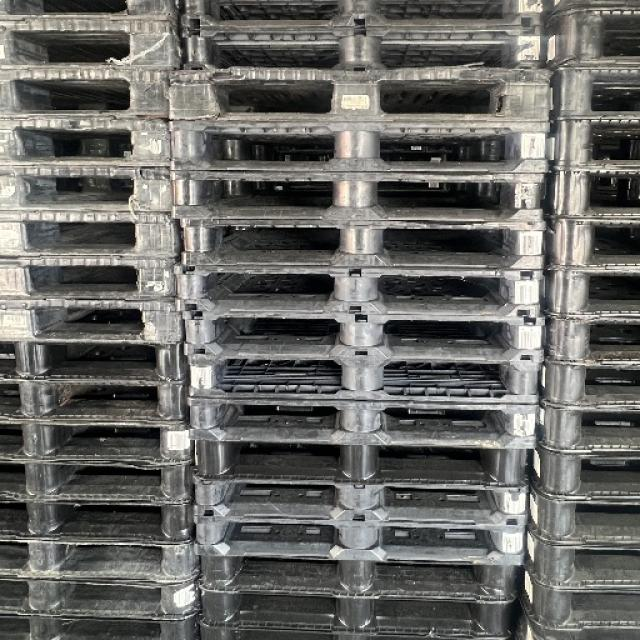igps: (183, 426, 540, 496), (162, 66, 560, 128), (190, 537, 528, 610), (182, 343, 550, 409), (178, 305, 552, 369), (165, 165, 550, 227), (182, 389, 544, 454), (176, 213, 548, 276), (186, 467, 534, 532), (170, 263, 546, 323), (190, 573, 521, 640), (188, 509, 532, 571), (164, 123, 553, 174), (177, 24, 547, 72), (178, 0, 549, 35), (0, 16, 189, 78), (0, 159, 181, 220), (0, 64, 174, 126), (0, 206, 186, 262), (0, 572, 204, 622), (0, 115, 178, 172), (0, 252, 181, 308), (0, 494, 202, 544), (0, 293, 190, 345), (0, 379, 193, 430), (0, 536, 207, 583), (0, 418, 199, 466), (0, 337, 192, 383), (516, 562, 640, 632), (520, 522, 640, 592), (0, 462, 200, 502), (539, 2, 640, 69), (523, 492, 639, 548), (532, 398, 638, 456), (535, 355, 640, 413), (524, 448, 638, 501), (536, 264, 640, 322), (536, 214, 640, 270), (0, 612, 205, 640), (534, 167, 640, 221), (540, 312, 640, 367), (550, 62, 640, 120), (192, 608, 352, 640), (540, 122, 640, 173), (0, 0, 180, 26), (522, 621, 640, 640)
